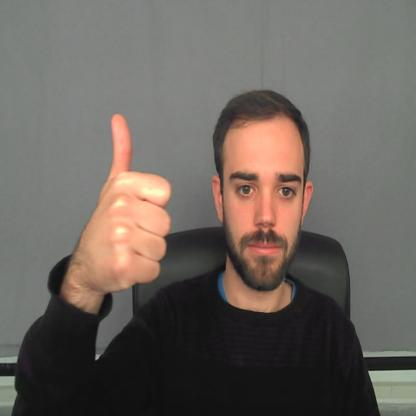thumbs-up: (89, 115, 175, 292)
